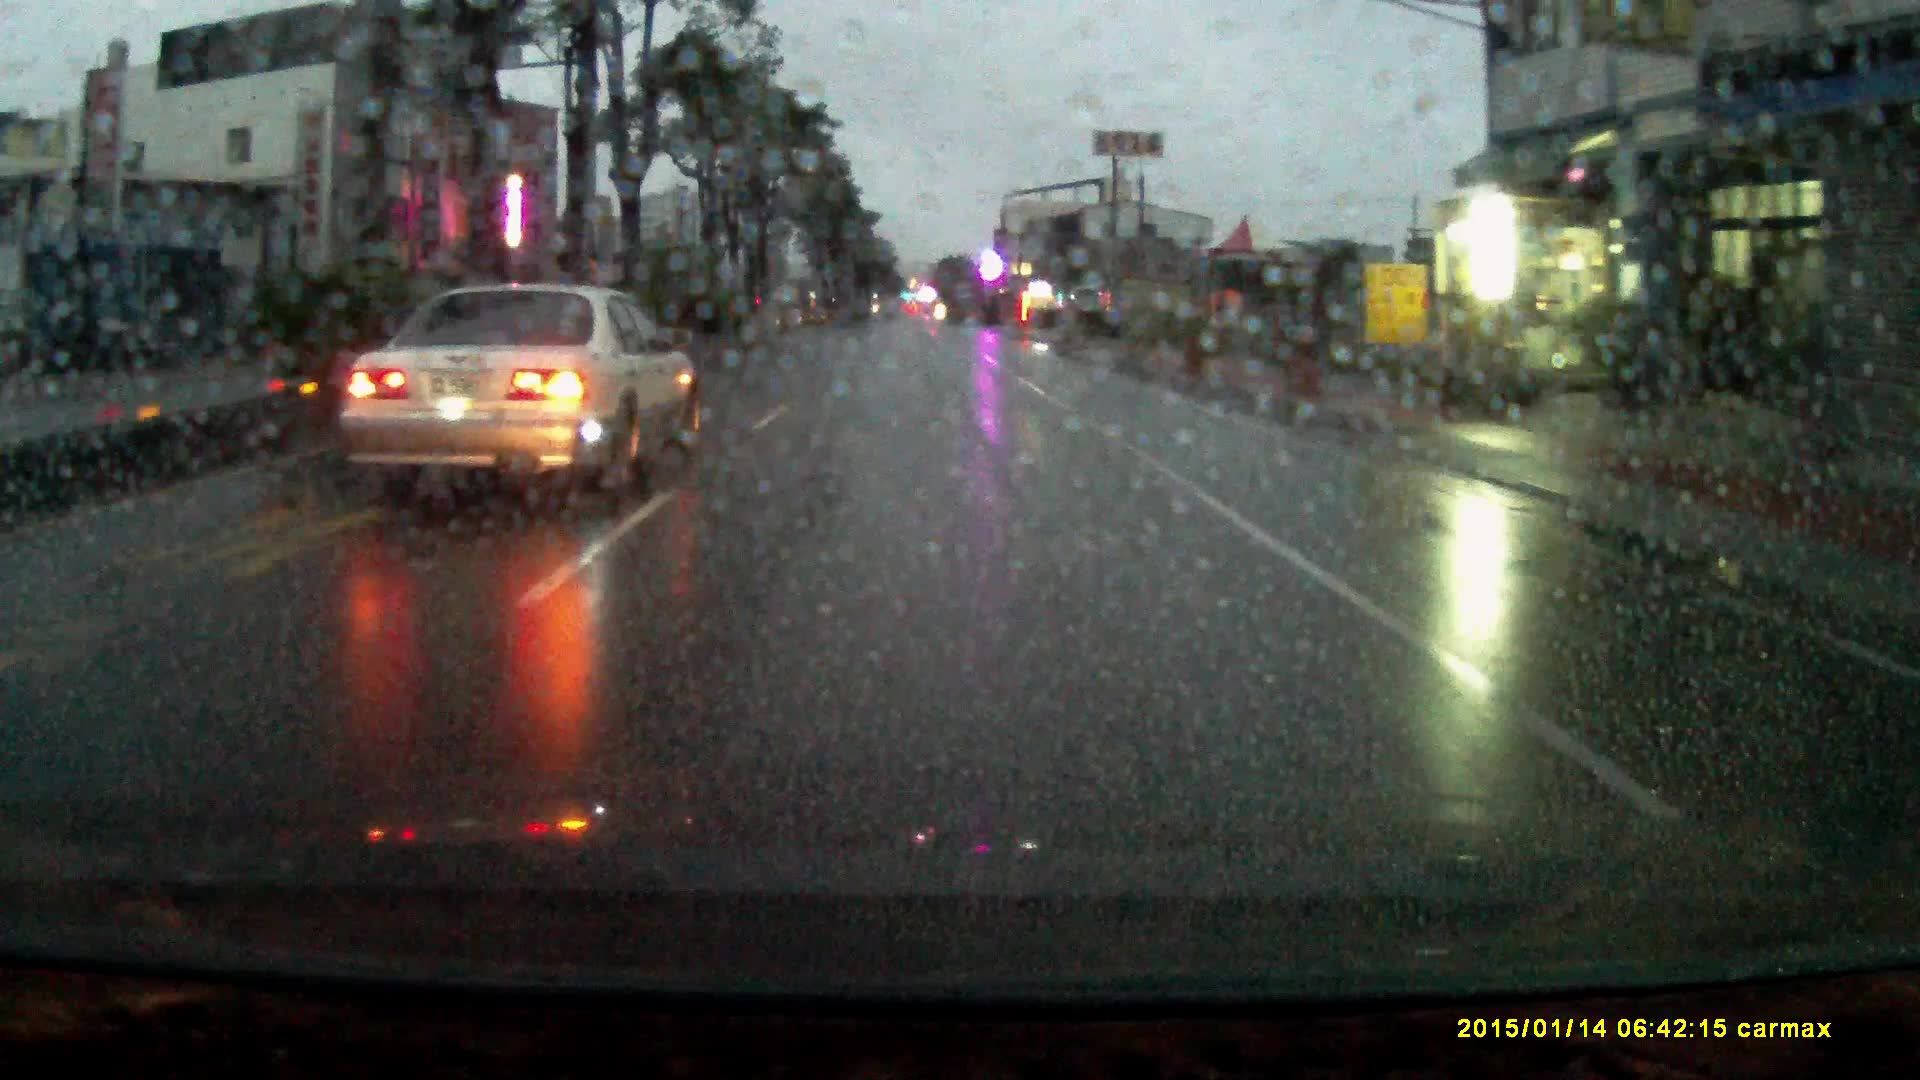vehicle: (331, 289, 702, 512)
